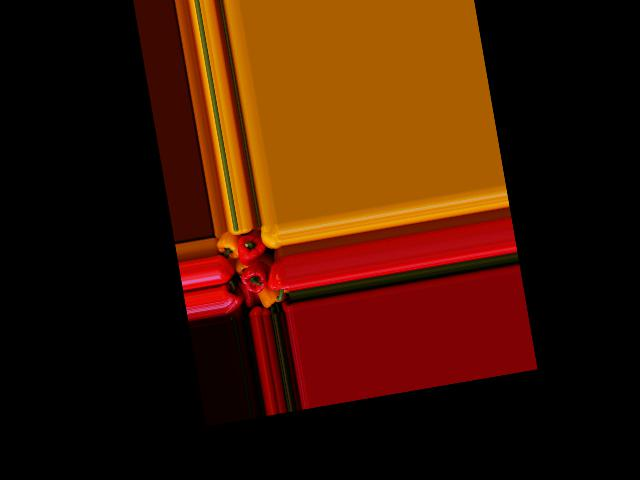bell_pepper: (217, 230, 242, 258)
